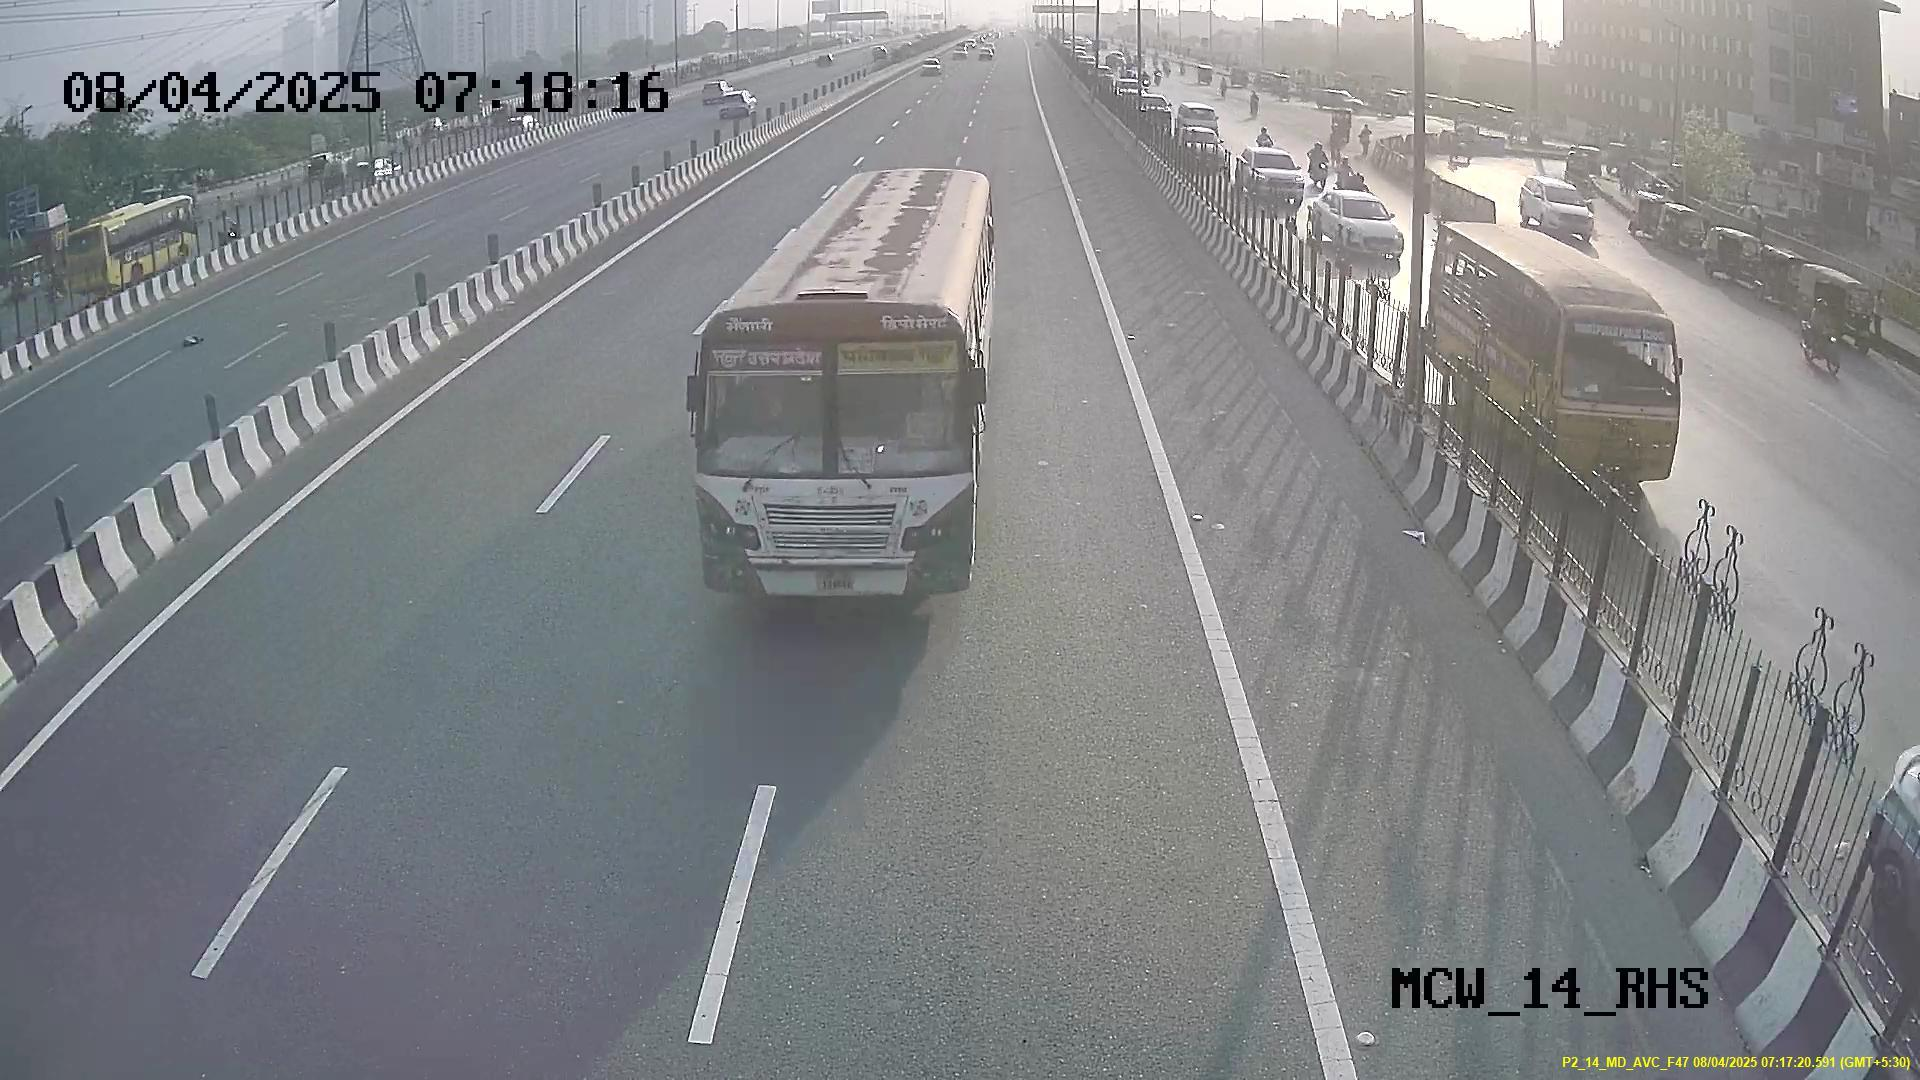bus: (675, 237, 996, 620)
